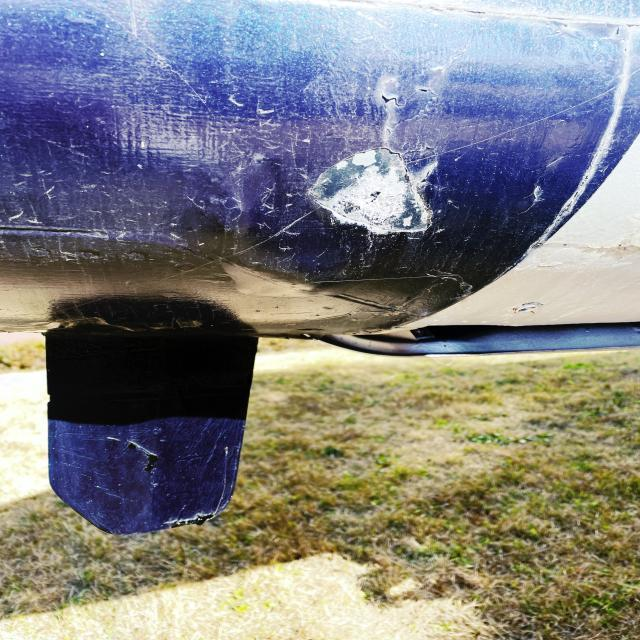crack: (376, 82, 438, 105)
dent: (303, 143, 445, 240)
